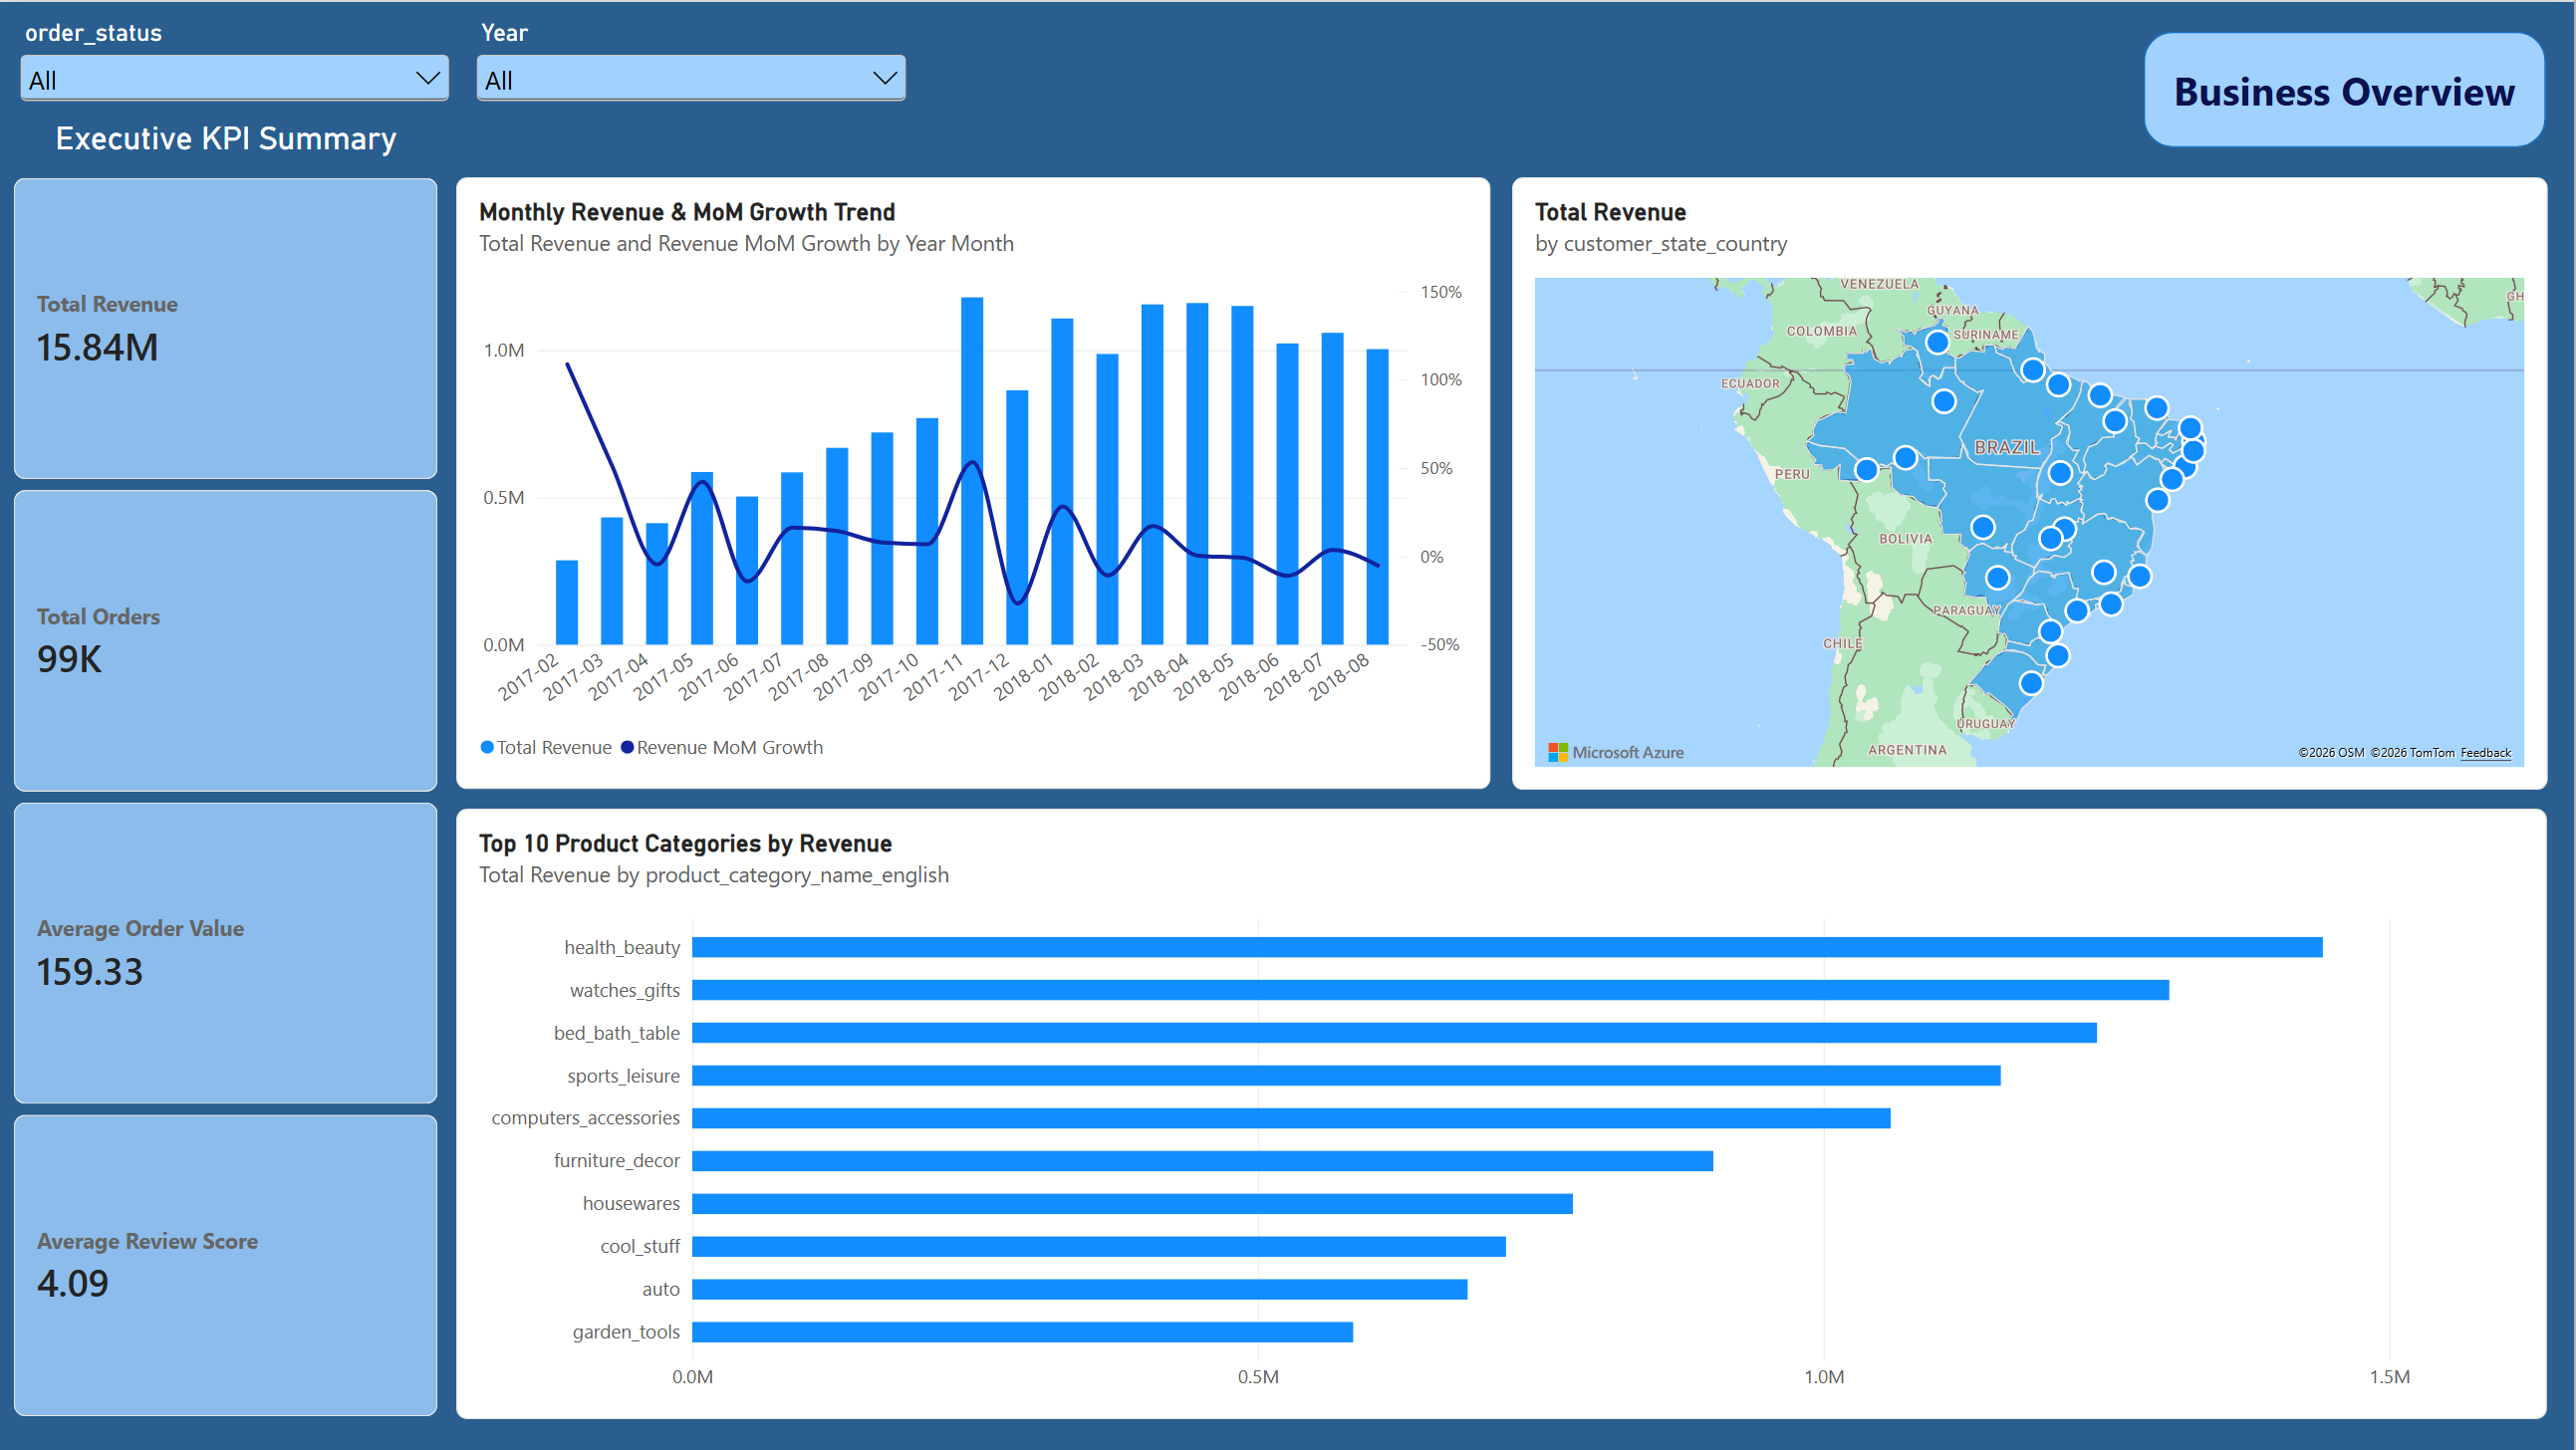

What the dashboard file says about the page in this screenshot:
{"tool":"powerbi","page":{"name":"Business Overview","canvas":[1920,1080],"ordinal":0},"visuals":[{"type":"cardVisual","title":"Executive KPI Summary","fields":{"Data":["Measure.Total Revenue","Measure.Total Orders","Measure.Average Order Value","Measure.Average Review Score"]},"box":[10.8,87.2,316.6,971.3],"z":0},{"type":"clusteredBarChart","title":"Top 10 Product Categories by Revenue","fields":{"Category":["olist_products_dataset.product_category_name_english"],"Y":["Measure.Total Revenue"]},"box":[340.1,601.8,1559.3,455.7],"z":2000},{"type":"lineStackedColumnComboChart","title":"Monthly Revenue & MoM Growth Trend","fields":{"Category":["DateTable.Year Month"],"Y":["Measure.Total Revenue"],"Y2":["Measure.Revenue MoM Growth"]},"box":[339.8,131.3,771.3,456.7],"z":3000},{"type":"slicer","fields":{"Values":["olist_orders_dataset.order_status"]},"box":[10.8,11.8,329.5,67.4],"z":4000},{"type":"slicer","title":"Year","fields":{"Values":["DateTable.Year"]},"box":[350.9,11.8,330,74.9],"z":5000},{"type":"shape","box":[1599.5,22.5,299.9,86.2],"z":6000},{"type":"azureMap","fields":{"Category":["olist_customers_dataset.customer_state_country"]},"box":[1127.4,131.3,772.3,456.9],"z":6001}]}

Visuals, with their boxes in screenshot pixels (x1, y1, x2, y2), scaled from the page's 1920x1080 canvas onto the 2576x1450 screenshot:
"Executive KPI Summary" cardVisual: 15,118,439,1421
"Top 10 Product Categories by Revenue" clusteredBarChart: 456,808,2548,1420
"Monthly Revenue & MoM Growth Trend" lineStackedColumnComboChart: 456,176,1491,790
slicer - olist_orders_dataset.order_status: 15,16,456,107
"Year" slicer: 471,16,913,117
shape: 2146,30,2548,146
azureMap - olist_customers_dataset.customer_state_country: 1512,176,2549,790
